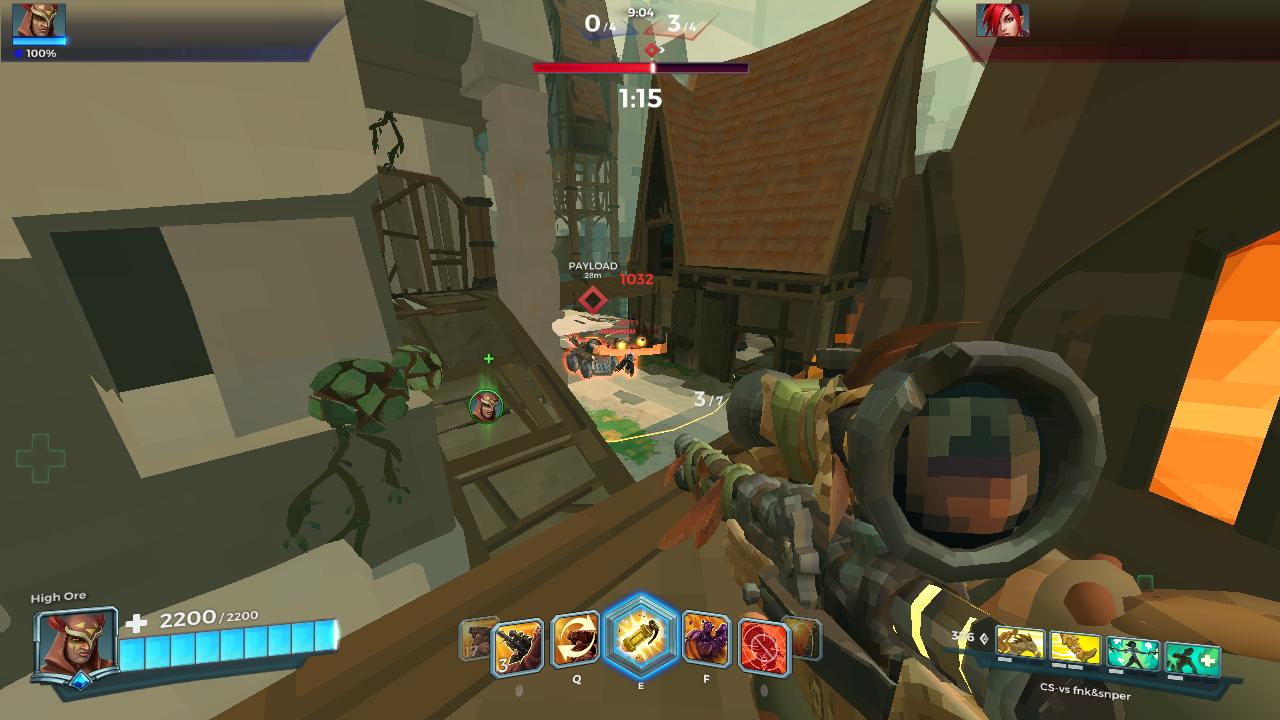model: (616, 345, 642, 379)
